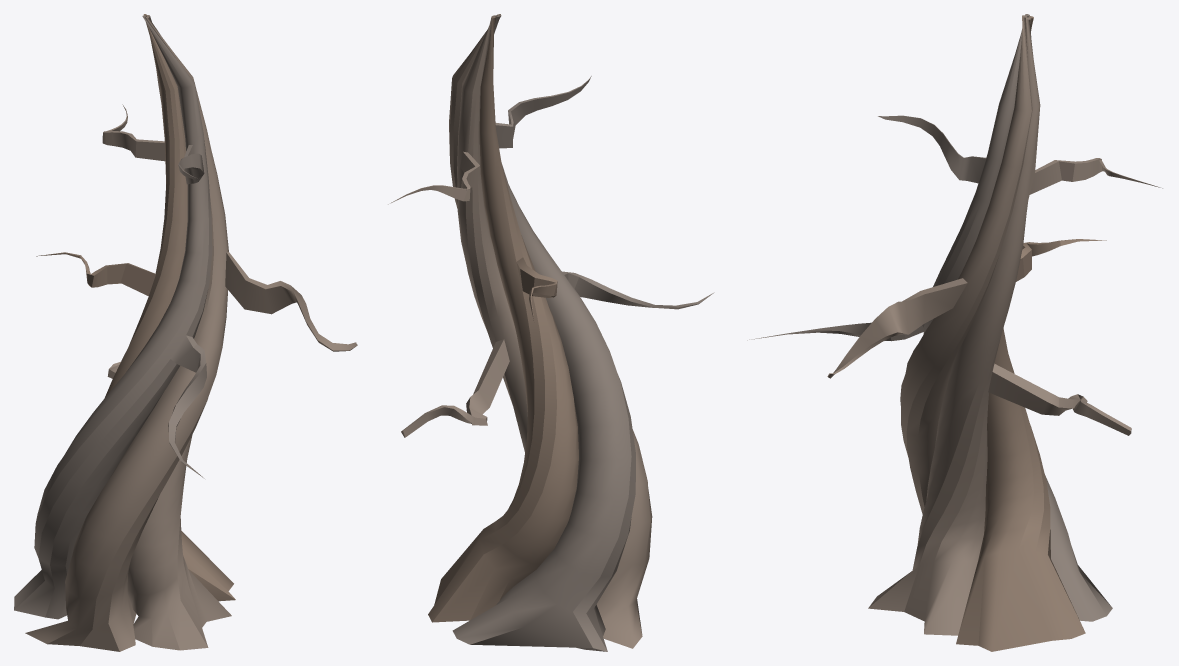
The model's file is A_Tree.fbx.
The picture shows the model from 3 angles, left to right: view 1: azimuth 30°, elevation 25°; view 2: azimuth 150°, elevation 25°; view 3: azimuth 270°, elevation 25°; orthographic projection. The views are drawn at different scales.
Parts seen in each view (by area): view 1: polySurface1; view 2: polySurface1; view 3: polySurface1.
Boxes of the visible parts, <box> form: polySurface1: <box>14,14,357,651</box>; polySurface1: <box>388,14,714,651</box>; polySurface1: <box>747,14,1162,651</box>.
Size of the model in its own units: 25.79 by 59.4 by 37.01.
